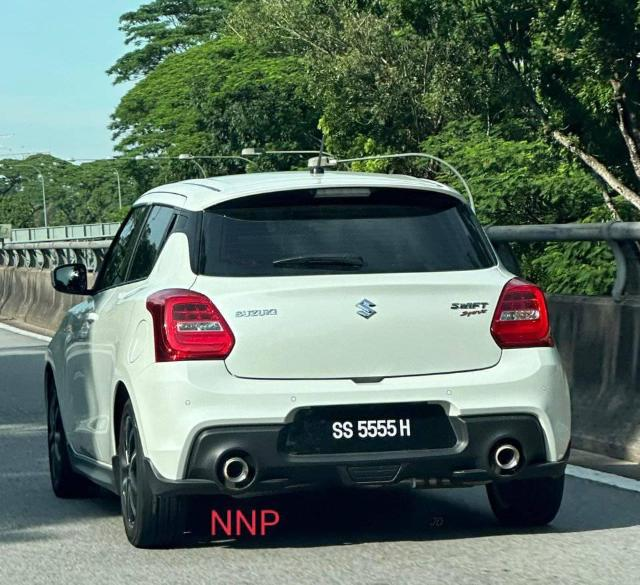License_Plate: (282, 381, 452, 480)
car: (40, 171, 571, 549)
